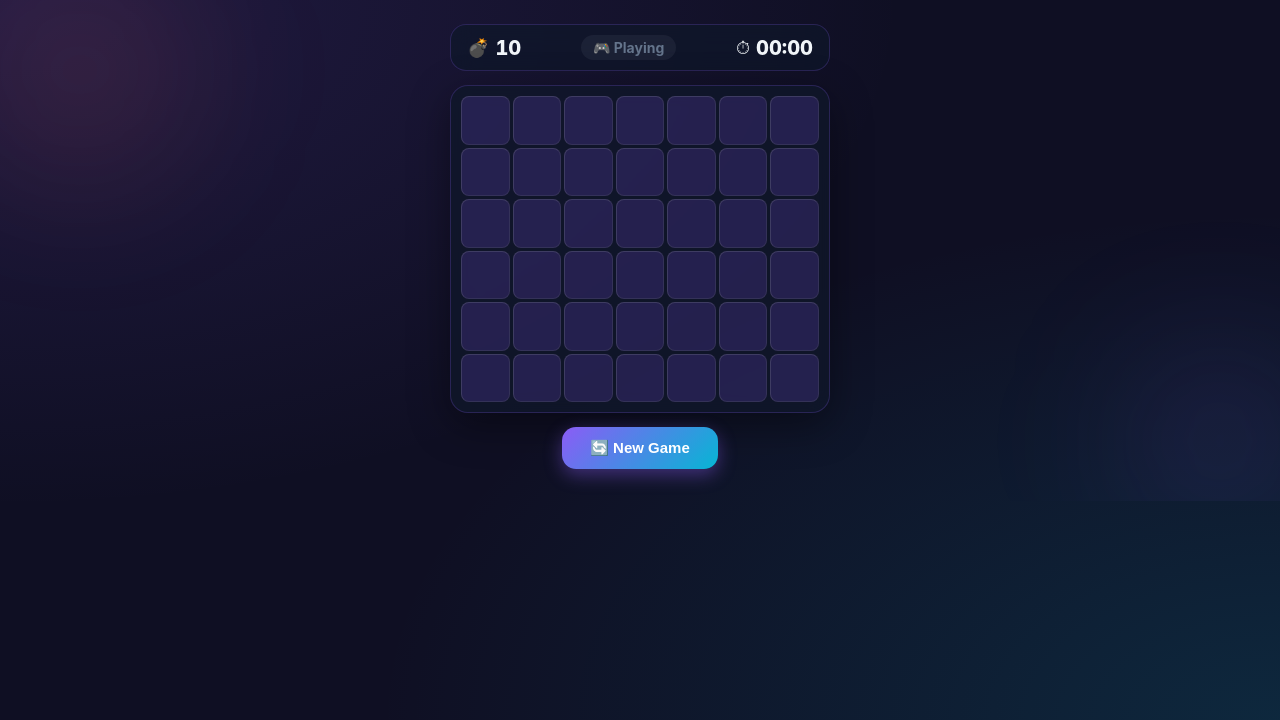
Test: Minesweeper › handles flagging and unflagging
Right-click the 1st element with class "ms-cell" at (485, 120), box [461,96,510,145]
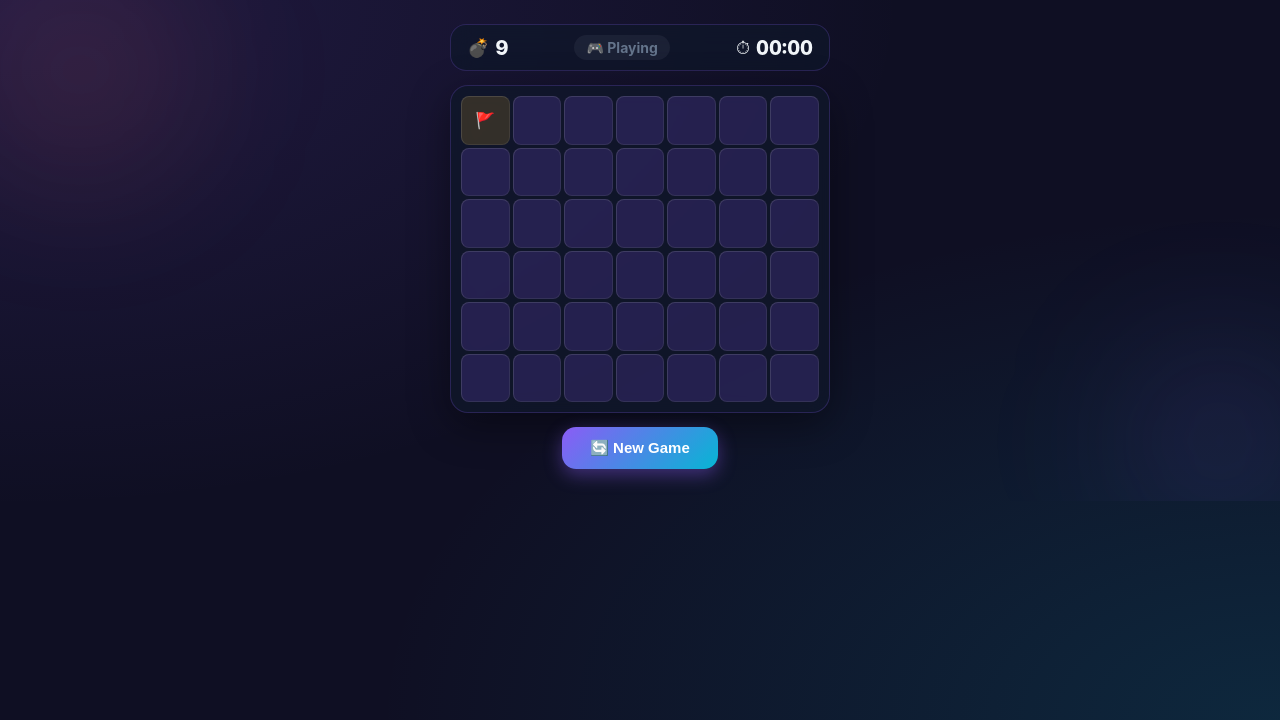
Now the text with class "ms-cell" reads "🚩", box [475,110,495,130]
Now the text with class "ms-hud-val" reads "9", box [496,36,508,60]
Right-click the text with class "ms-cell" showing "🚩" at (485, 120), box [461,96,510,145]
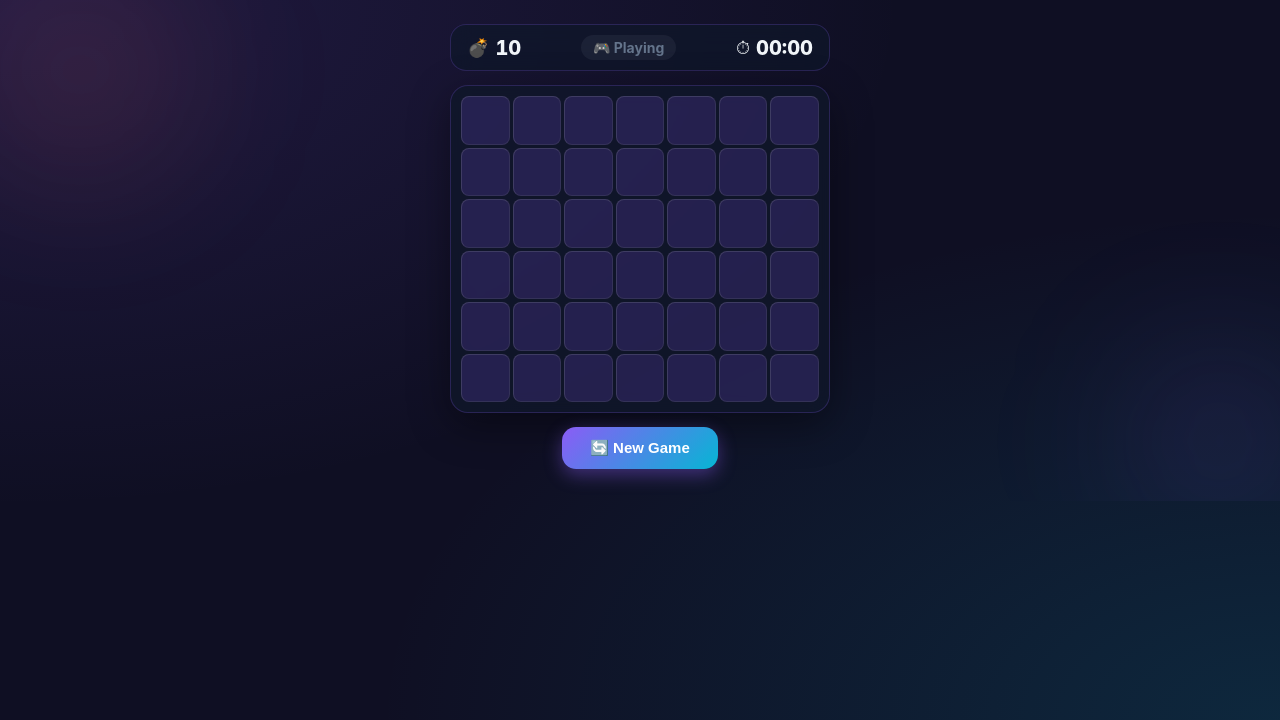
Now the 2nd element with class "ms-cell" is empty, box [461,96,510,145]
Now the text with class "ms-hud-val" reads "10", box [496,36,521,60]
